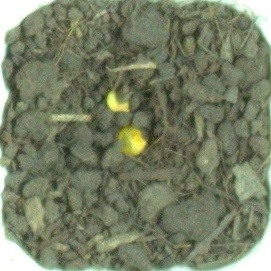chilli seed: (114, 124, 151, 158), (104, 85, 138, 115)
